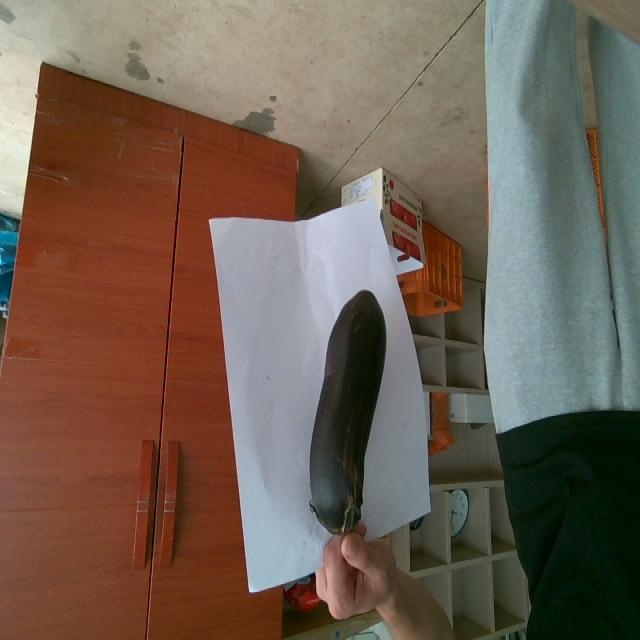Egg plant: (310, 292, 385, 535)
